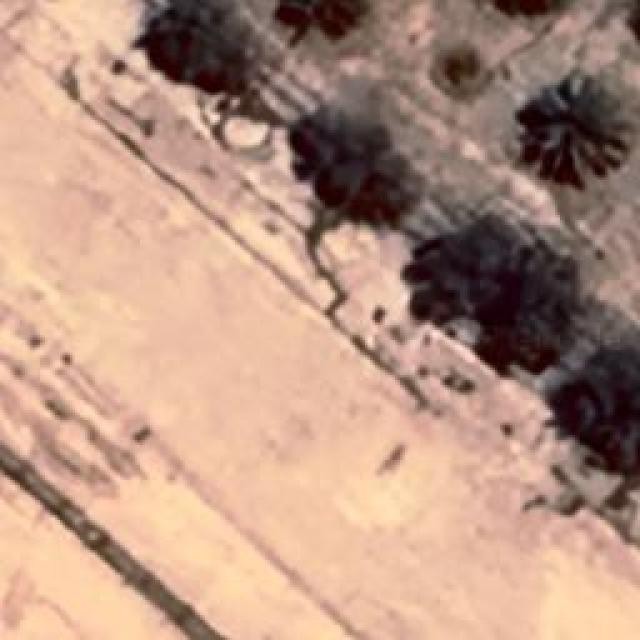PalmTree: (103, 62, 579, 126), (93, 19, 324, 62), (140, 0, 240, 94), (477, 0, 583, 22)
